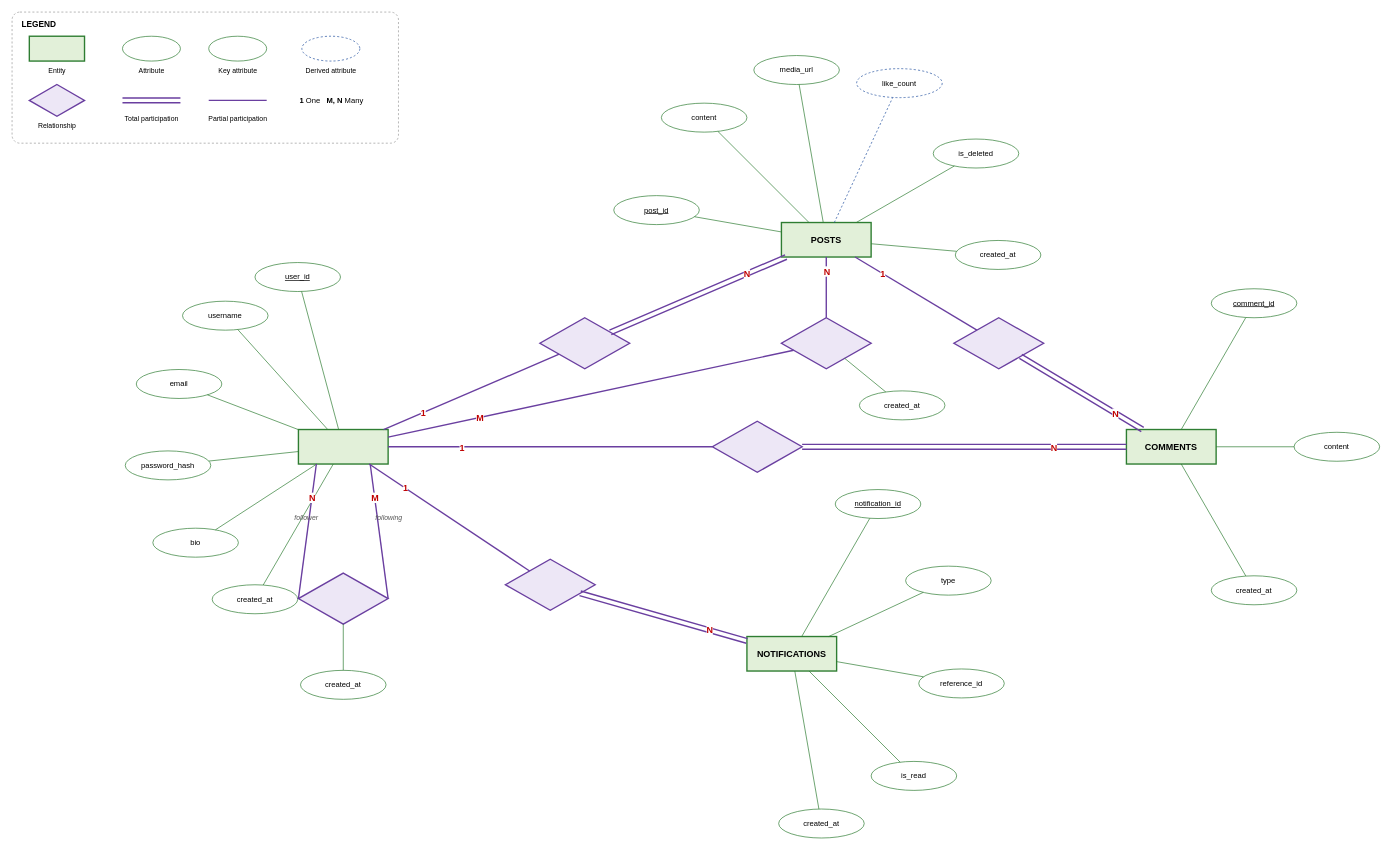
Some shapes in this 1392 by 850 pixel diagram are drawn without their labels. Here are the shapes that lost their labels. From the top down, the centre of each, then its label:
At point (584, 343): "Creates".
At point (825, 343): "Likes".
At point (998, 343): "Contains".
At point (342, 446): "USERS".
At point (756, 446): "Writes".
At point (342, 598): "Follows".
At point (549, 584): "Receives".
